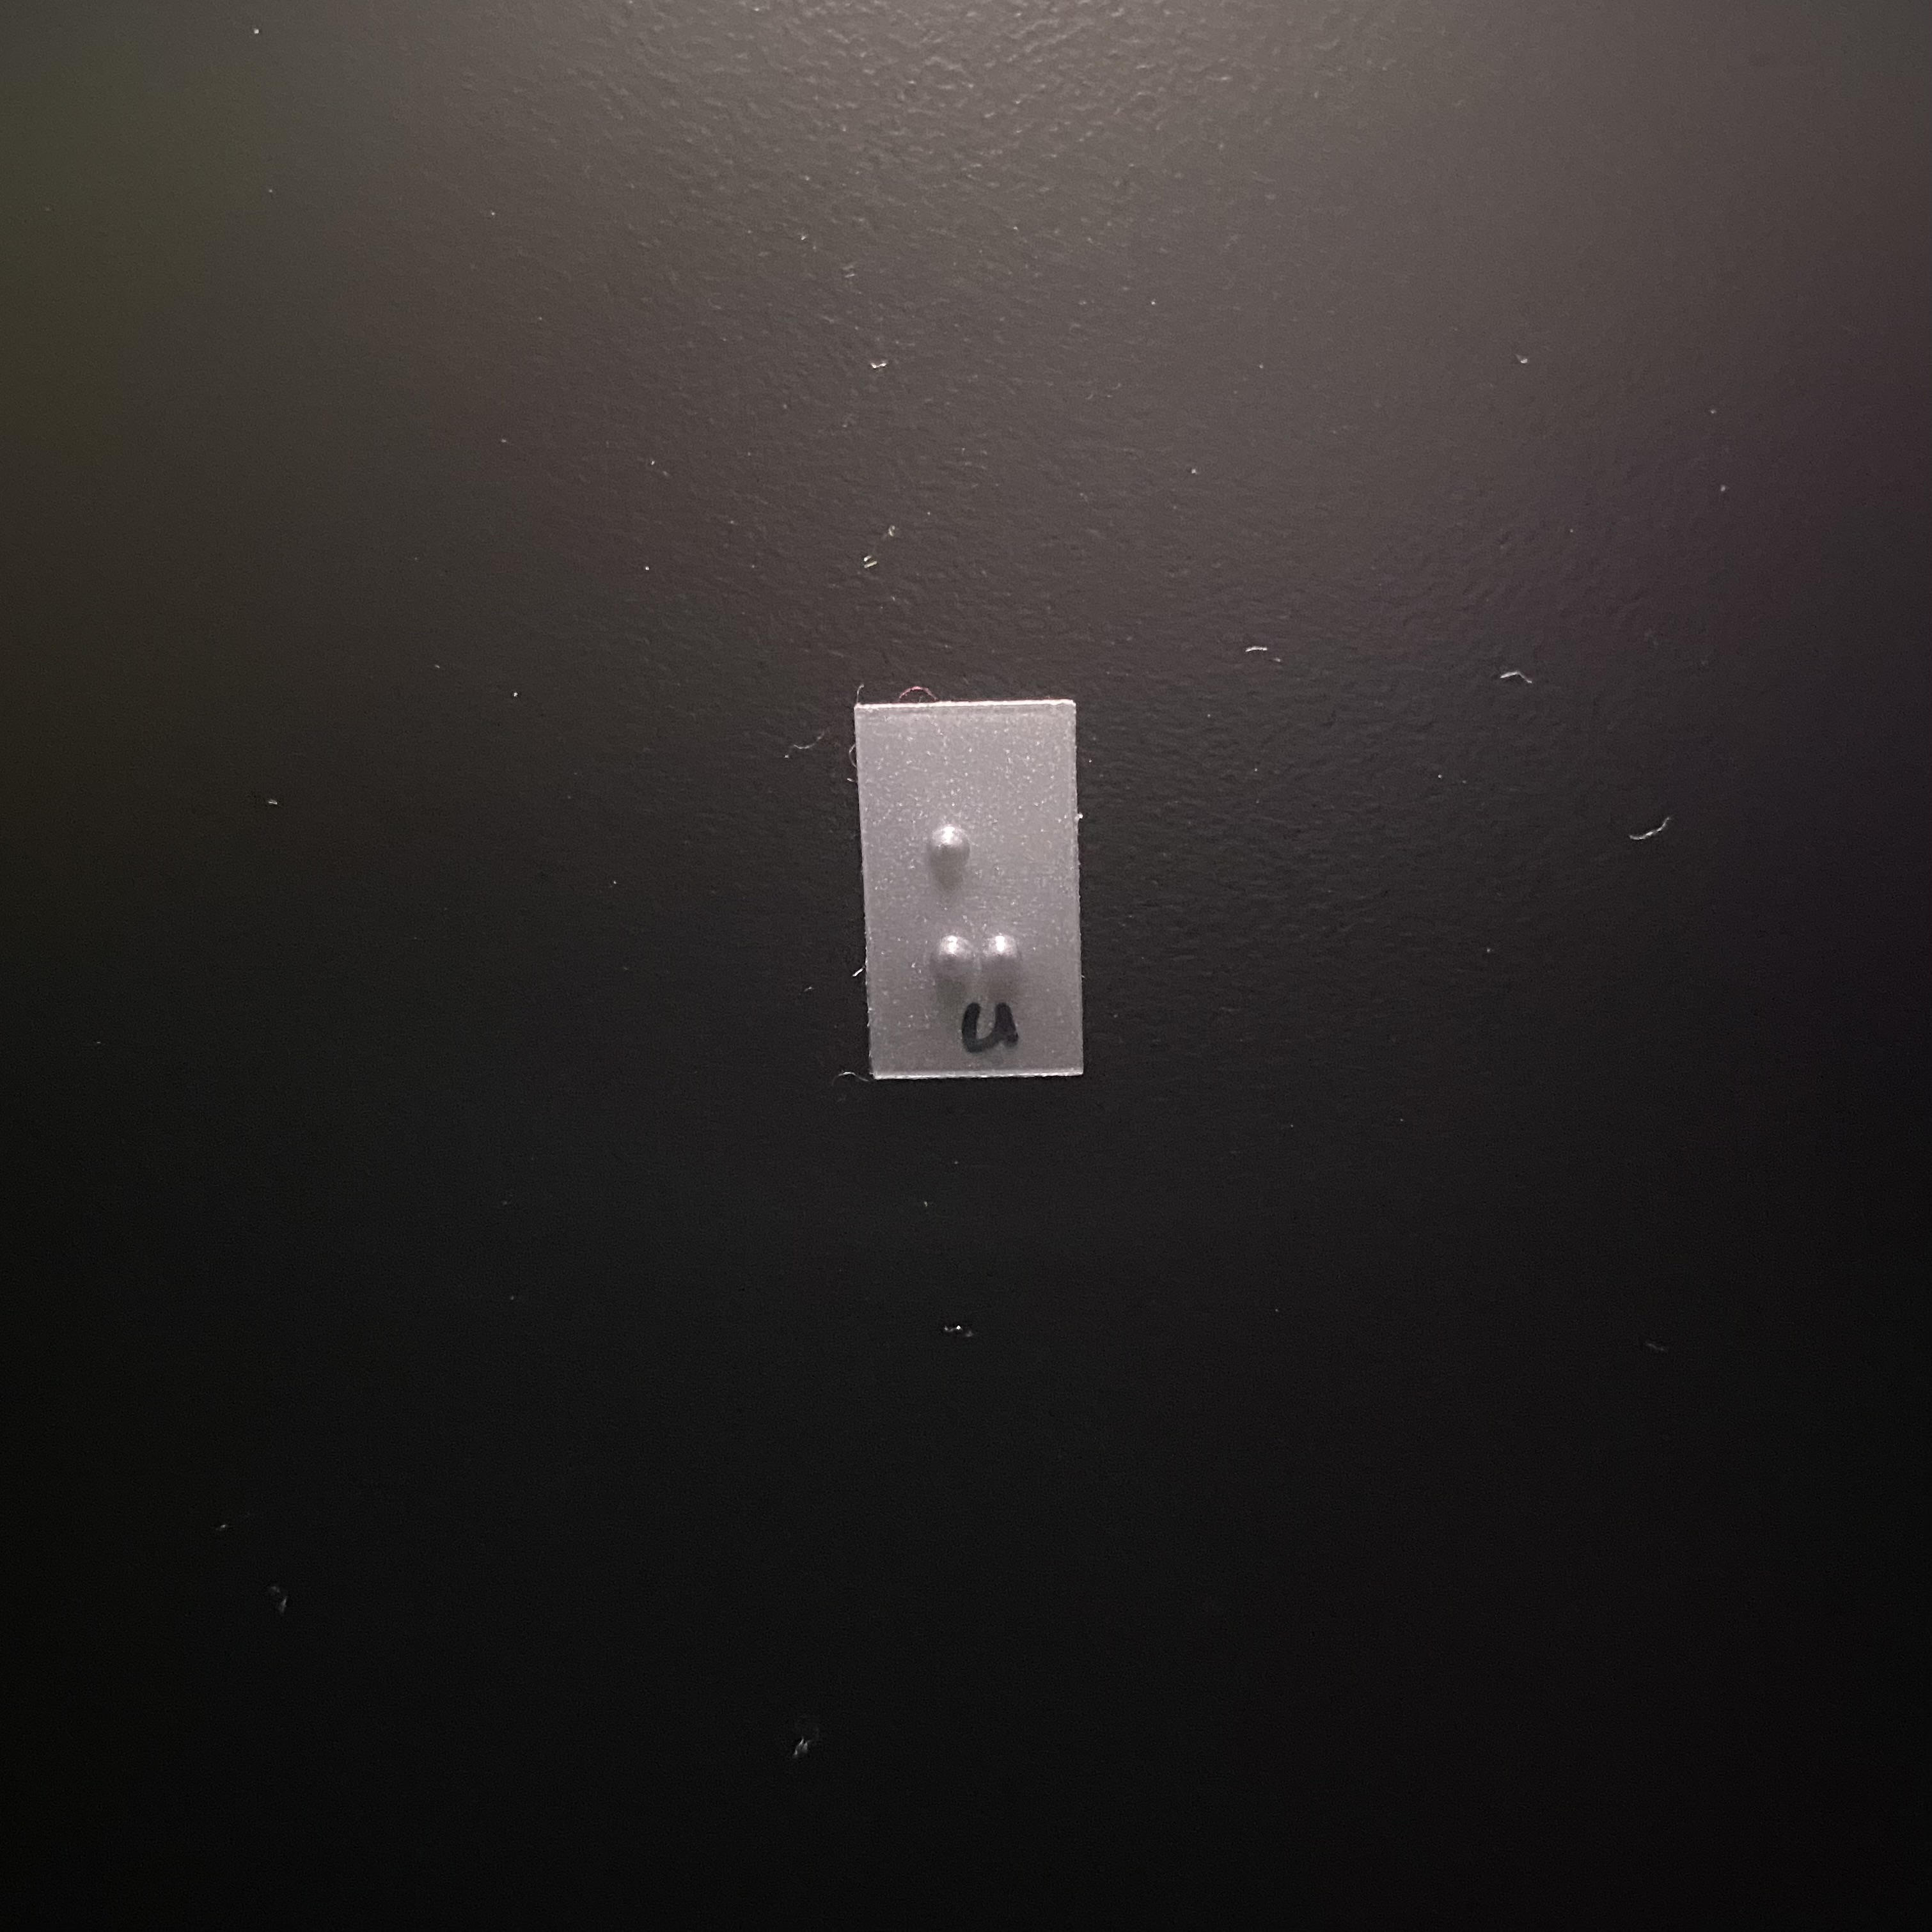u: (915, 817, 1032, 1004)
